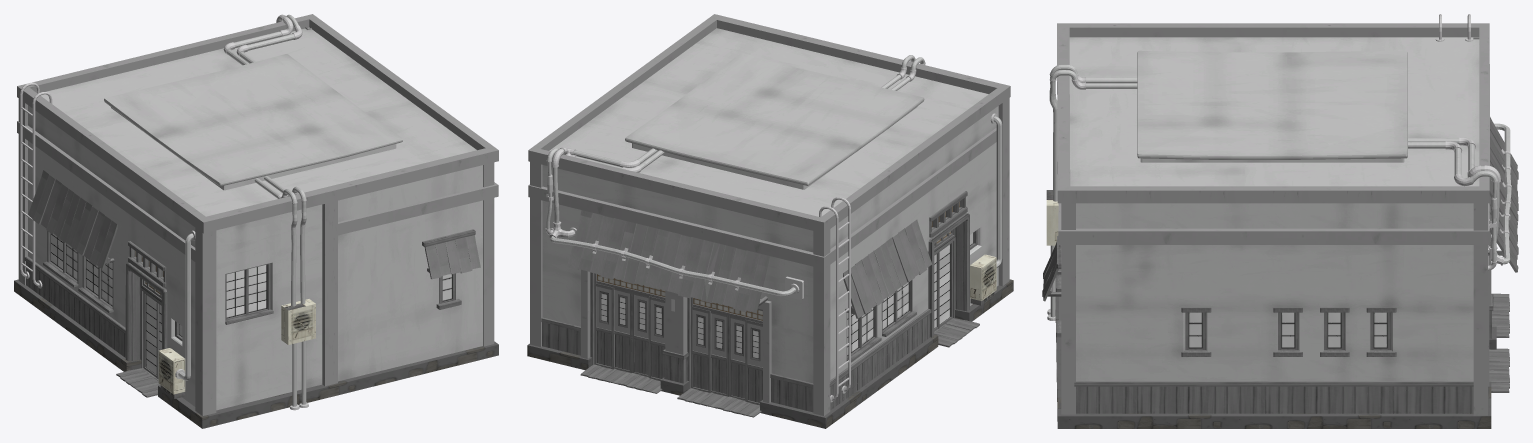
Rendered from SM_ENV_KNVLLG_AreaG_Building_G.mo.fbx.
3 renders of one model, left to right at view 1: azimuth 30°, elevation 25°; view 2: azimuth 150°, elevation 25°; view 3: azimuth 270°, elevation 25°, orthographic. The views are drawn at different scales.
Visible parts, largest first — view 1: SM_ENV_KNVLLG_AreaG_Building_G.mo; view 2: SM_ENV_KNVLLG_AreaG_Building_G.mo; view 3: SM_ENV_KNVLLG_AreaG_Building_G.mo.
Part boxes in pixels (bbox=[...]): SM_ENV_KNVLLG_AreaG_Building_G.mo: bbox=[14, 14, 498, 428]; SM_ENV_KNVLLG_AreaG_Building_G.mo: bbox=[527, 14, 1013, 428]; SM_ENV_KNVLLG_AreaG_Building_G.mo: bbox=[1042, 14, 1518, 428].
Size of the model in its own units: 11.82 by 7.85 by 13.59.
